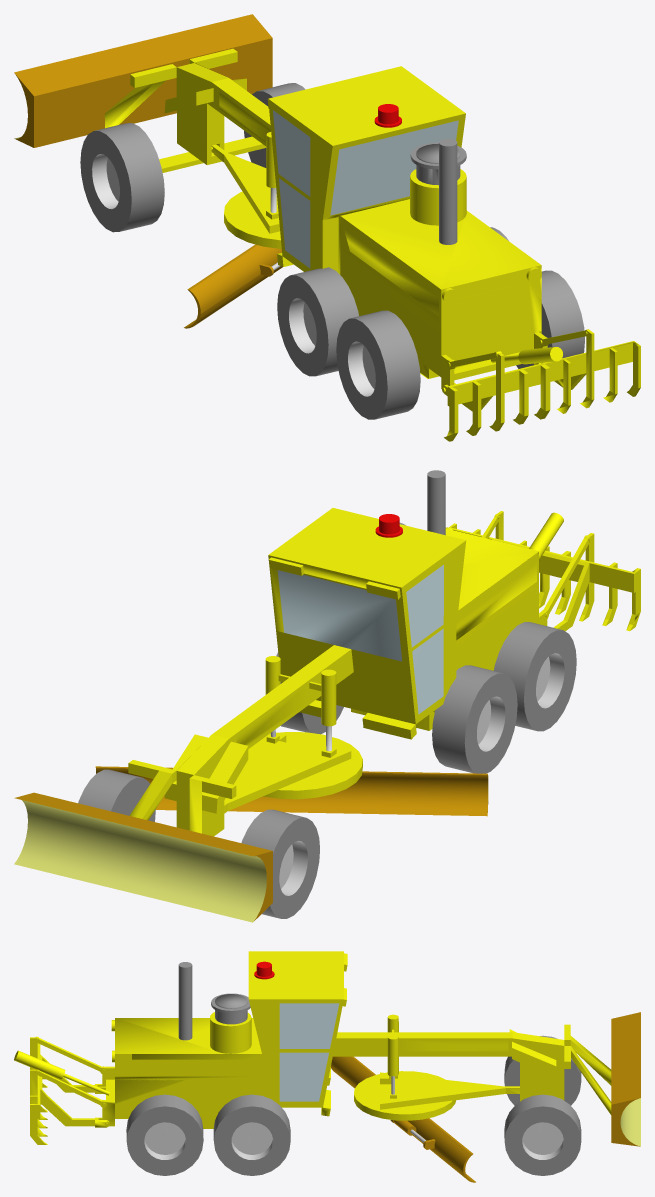
The model's file is Grader_B.fbx.
3 renders of one model, top to bottom at view 1: azimuth 30°, elevation 25°; view 2: azimuth 150°, elevation 25°; view 3: azimuth 270°, elevation 25°, orthographic. The views are drawn at different scales.
Visible parts, largest first — view 1: Grader_B, Shovel, LeftRearWheel, LeftFrontWheel, LeftMidWheel, Scraper, RightRearWheel, ScraperPivot, ScraperRotator, RightFrontWheel; view 2: Grader_B, Shovel, Scraper, LeftMidWheel, LeftRearWheel, LeftFrontWheel, ScraperPivot, ScraperRotator, RightFrontWheel, LeftPistonHousing, RightMidWheel; view 3: Grader_B, RightRearWheel, RightMidWheel, RightFrontWheel, Shovel, ScraperPivot, Scraper, ScraperRotator, LeftFrontWheel, RightPistonHousing.
Boxes of the visible parts, <box> form: Grader_B: <box>104,48,640,441</box>; Shovel: <box>14,14,272,147</box>; LeftRearWheel: <box>336,310,420,419</box>; LeftFrontWheel: <box>80,123,164,232</box>; LeftMidWheel: <box>277,267,358,376</box>; Scraper: <box>184,244,282,328</box>; RightRearWheel: <box>516,270,584,368</box>; ScraperPivot: <box>211,144,279,233</box>; ScraperRotator: <box>224,191,281,248</box>; RightFrontWheel: <box>244,83,305,167</box>; Grader_B: <box>128,470,640,836</box>; Shovel: <box>14,792,272,922</box>; Scraper: <box>95,766,488,816</box>; LeftMidWheel: <box>432,665,517,773</box>; LeftRearWheel: <box>493,622,576,731</box>; LeftFrontWheel: <box>241,809,319,918</box>; ScraperPivot: <box>224,732,351,813</box>; ScraperRotator: <box>248,732,362,799</box>; RightFrontWheel: <box>78,769,155,821</box>; LeftPistonHousing: <box>321,669,336,726</box>; RightMidWheel: <box>276,652,343,734</box>; Grader_B: <box>14,951,611,1144</box>; RightRearWheel: <box>126,1094,203,1175</box>; RightMidWheel: <box>213,1094,290,1175</box>; RightFrontWheel: <box>504,1094,581,1175</box>; Shovel: <box>611,1012,640,1146</box>; ScraperPivot: <box>380,1072,519,1109</box>; Scraper: <box>331,1056,475,1182</box>; ScraperRotator: <box>354,1071,455,1122</box>; LeftFrontWheel: <box>504,1035,581,1105</box>; RightPistonHousing: <box>387,1034,398,1076</box>.
Size of the model in its own units: 428 by 317 by 1019.
